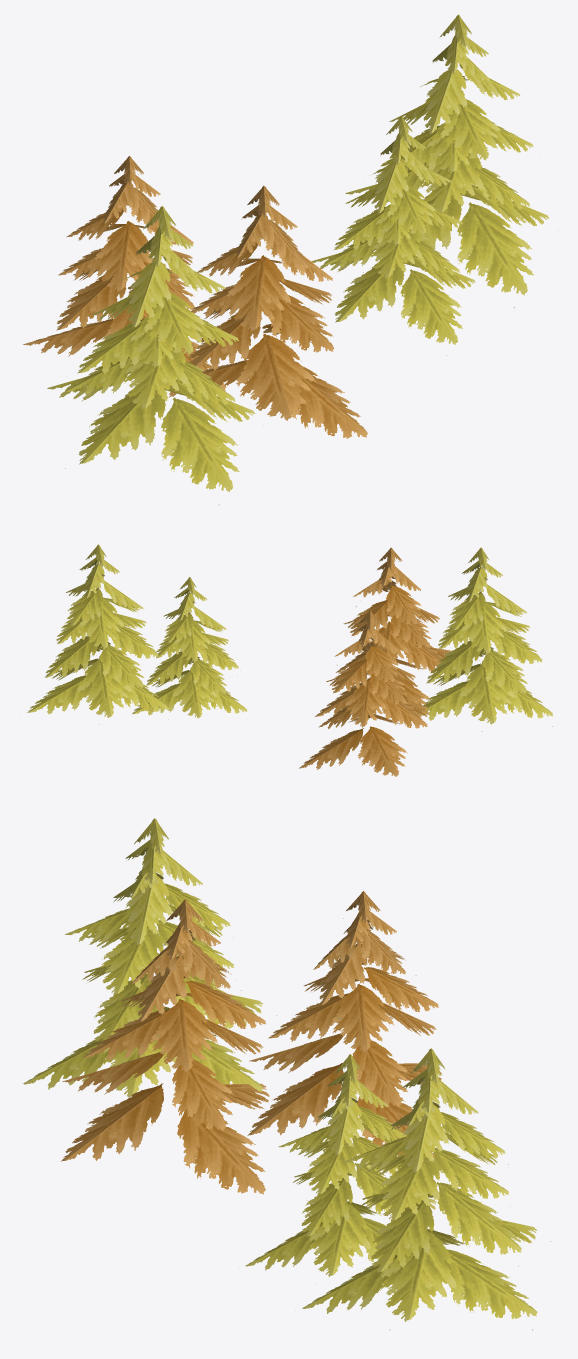
The model's file is area_07_25.fbx.
3 views of the same model, one above another, from view 1: azimuth 30°, elevation 25°; view 2: azimuth 150°, elevation 25°; view 3: azimuth 270°, elevation 25° (orthographic). The views are drawn at different scales.
Parts seen in each view (by area): view 1: area_07_25; view 2: area_07_25; view 3: area_07_25.
Part boxes in pixels (<box>): area_07_25: <box>23,14,549,504</box>; area_07_25: <box>27,544,552,776</box>; area_07_25: <box>23,818,551,1330</box>.
Bounding box in the file's own units: 14.92 × 6.24 × 10.69.
